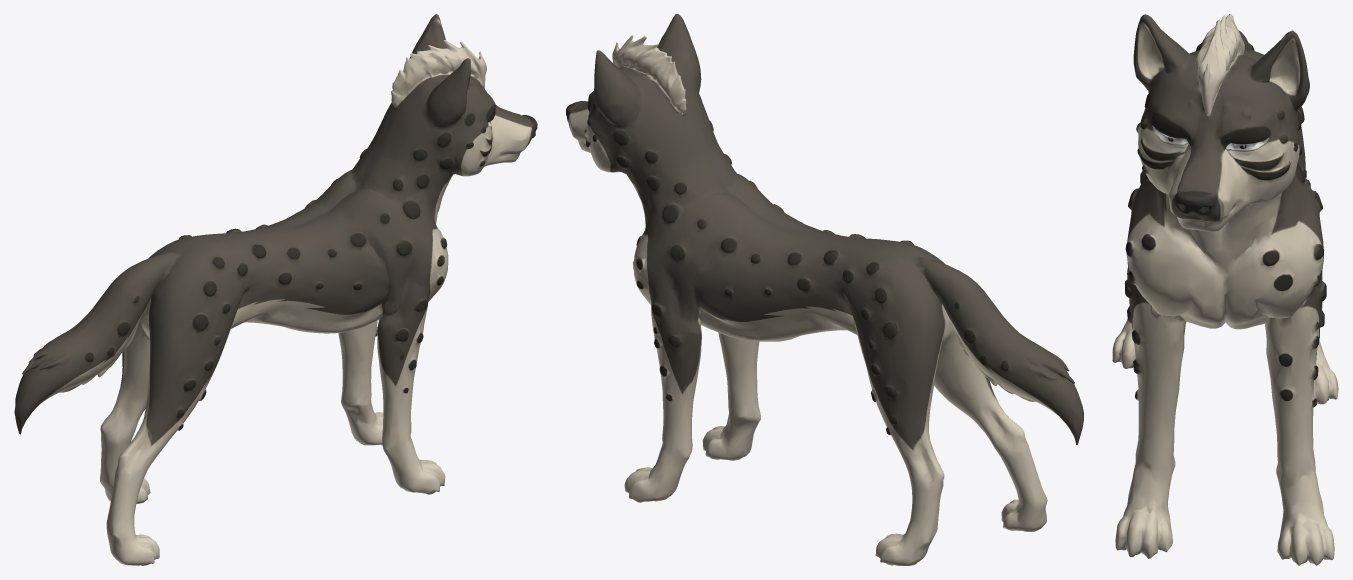
The model's file is tesshin.glb.
3 renders of one model, left to right at view 1: azimuth 30°, elevation 25°; view 2: azimuth 150°, elevation 25°; view 3: azimuth 270°, elevation 25°, orthographic. The views are drawn at different scales.
Visible parts, largest first — view 1: tripo_node_93cc3d61-2112-480e-b968-28f3e07aa8fa; view 2: tripo_node_93cc3d61-2112-480e-b968-28f3e07aa8fa; view 3: tripo_node_93cc3d61-2112-480e-b968-28f3e07aa8fa.
Boxes of the visible parts, box(x1,y1,x2,y2) form: tripo_node_93cc3d61-2112-480e-b968-28f3e07aa8fa: box(14, 14, 537, 565); tripo_node_93cc3d61-2112-480e-b968-28f3e07aa8fa: box(566, 14, 1083, 565); tripo_node_93cc3d61-2112-480e-b968-28f3e07aa8fa: box(1112, 14, 1338, 565).
Bounding box in the file's own units: 1 × 0.7856 × 0.284.
1 material, 1 textured.
